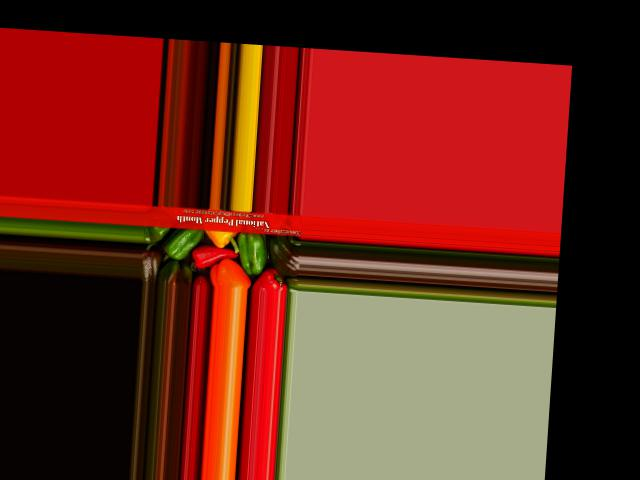bell_pepper: (267, 234, 300, 276)
